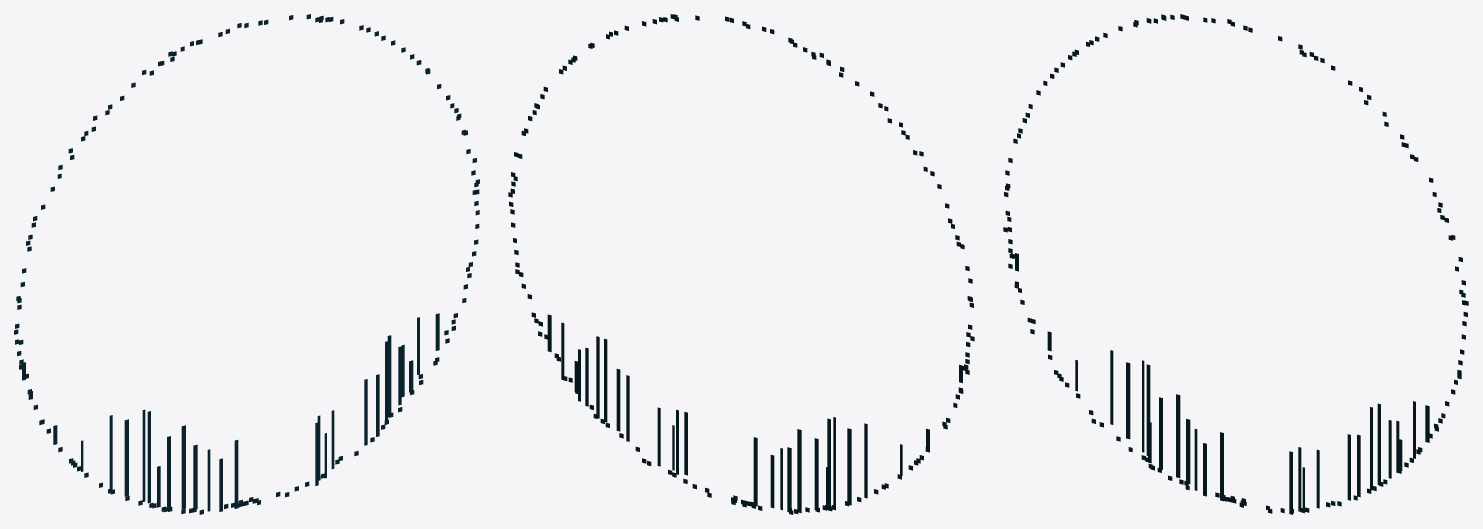
File: portal_locked.glb
3 views of the same model, side by side, from view 1: azimuth 30°, elevation 25°; view 2: azimuth 150°, elevation 25°; view 3: azimuth 330°, elevation 25° (orthographic).
Parts seen in each view (by area): view 1: portal_membrane_mid, portal_rim; view 2: portal_membrane_mid, portal_rim; view 3: portal_membrane_mid, portal_rim.
Boxes of the visible parts, x1,y1,x2,y2 form: portal_membrane_mid: [22, 313, 439, 511]; portal_rim: [14, 14, 479, 514]; portal_membrane_mid: [547, 314, 962, 513]; portal_rim: [508, 14, 974, 514]; portal_membrane_mid: [1015, 253, 1429, 514]; portal_rim: [1003, 14, 1468, 513].
Bounding box in the file's own units: 3.03 × 3.01 × 0.1508.
